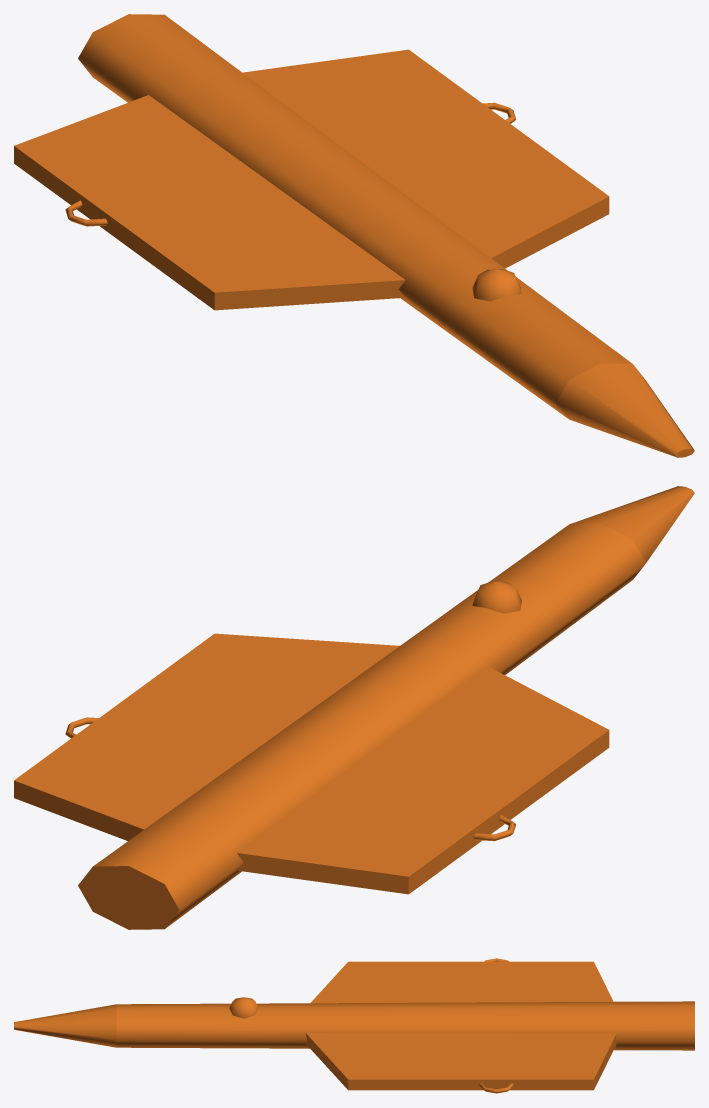
File: fighter-hammerhead-403.glb
The picture shows the model from 3 angles, top to bottom: view 1: azimuth 30°, elevation 25°; view 2: azimuth 150°, elevation 25°; view 3: azimuth 270°, elevation 25°; orthographic projection. The views are drawn at different scales.
Size of the model in its own units: 0.9187 by 0.154 by 1.99.
